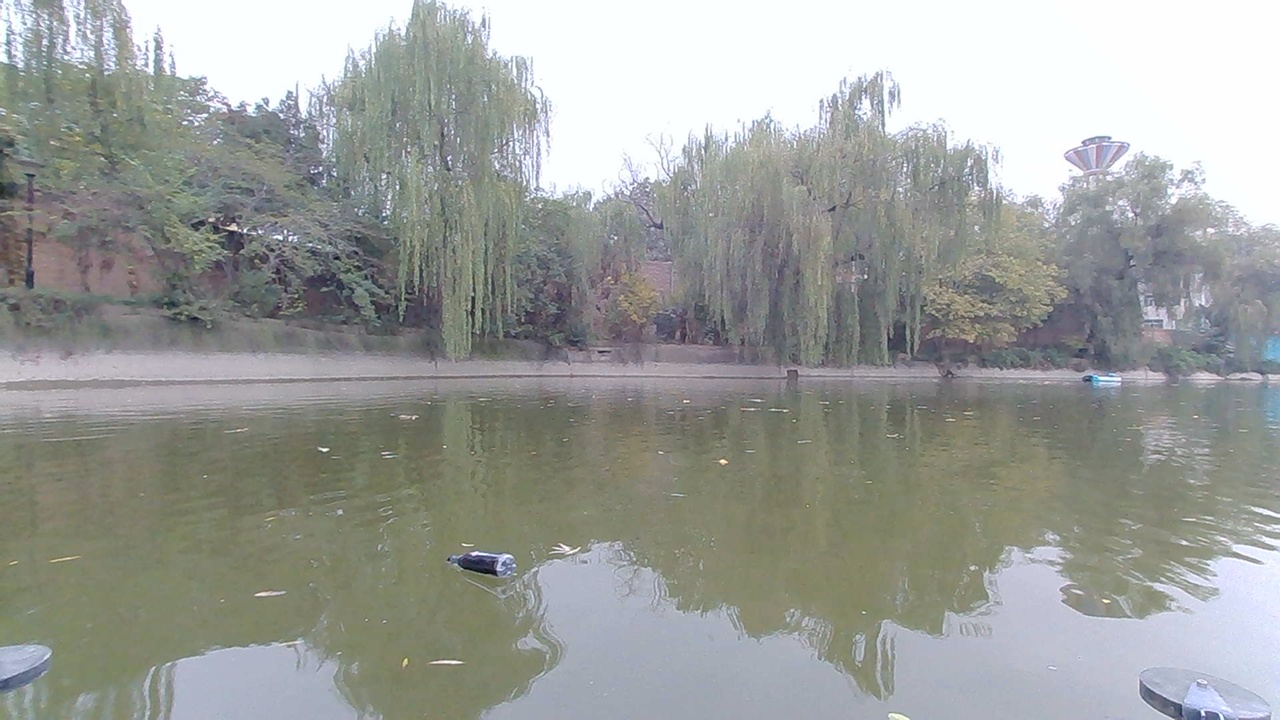bottle: (462, 550, 516, 584)
